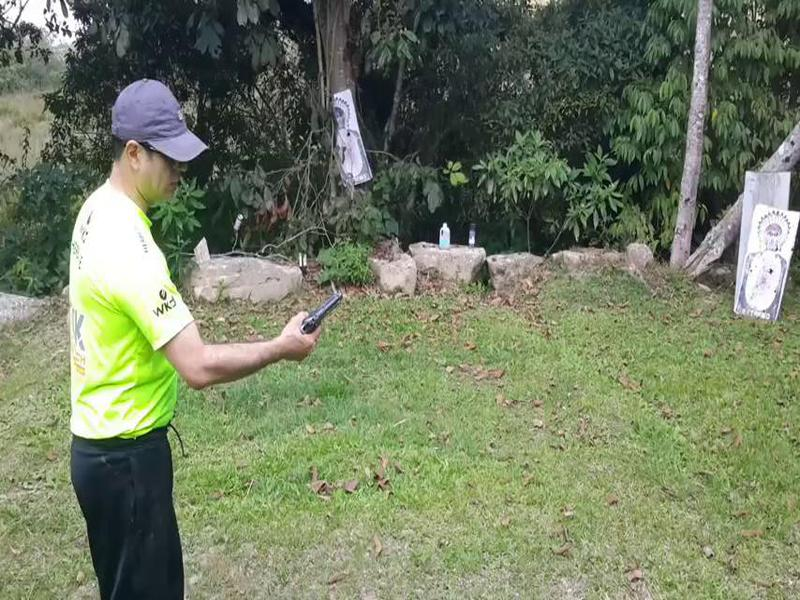Pistola: (289, 289, 351, 346)
